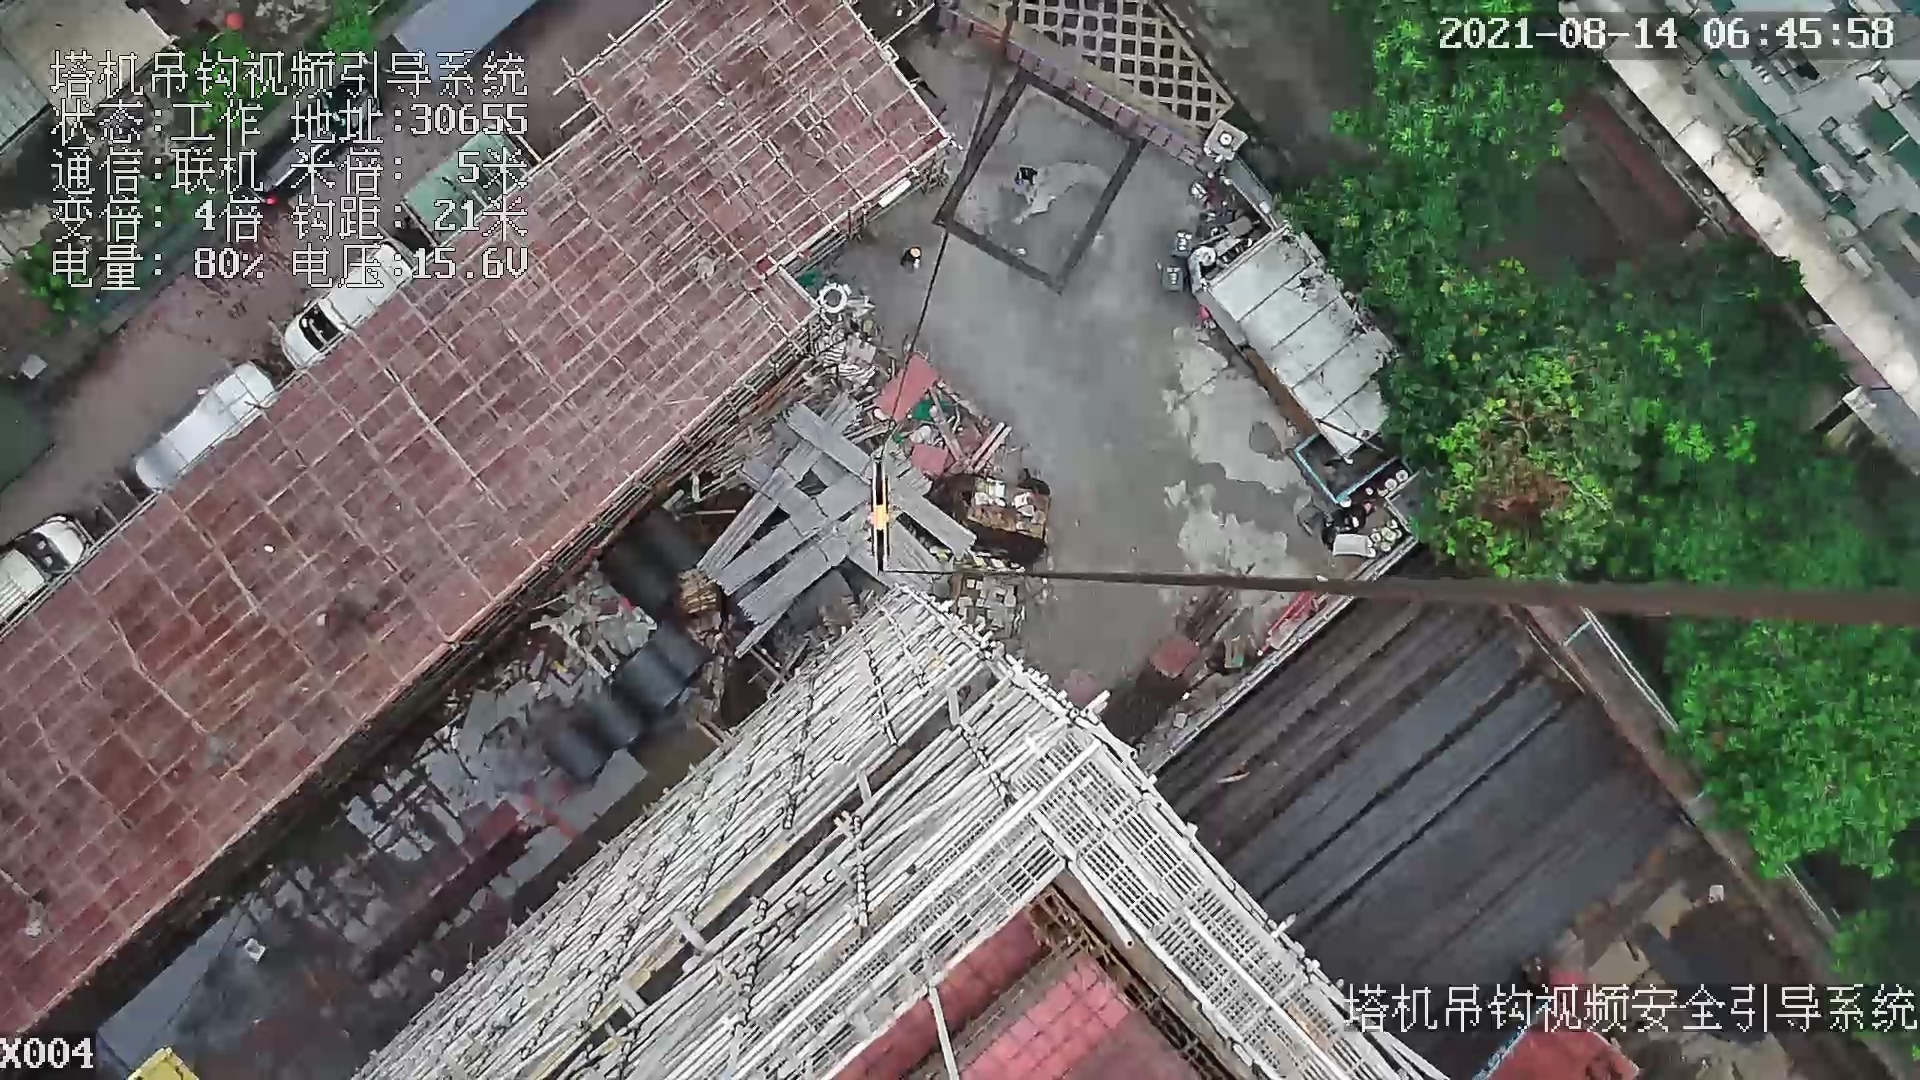helmet: (910, 246, 920, 258)
hook: (859, 453, 899, 578)
person: (896, 241, 940, 279), (1014, 160, 1037, 189)
